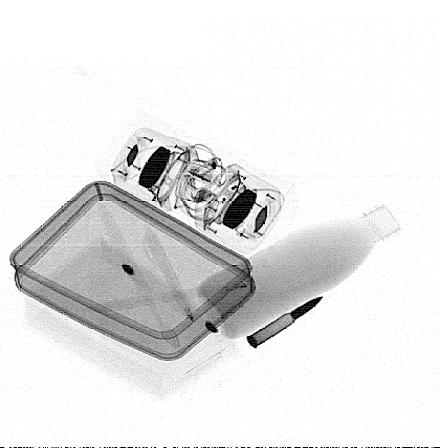Bullet: (247, 295, 324, 349)
